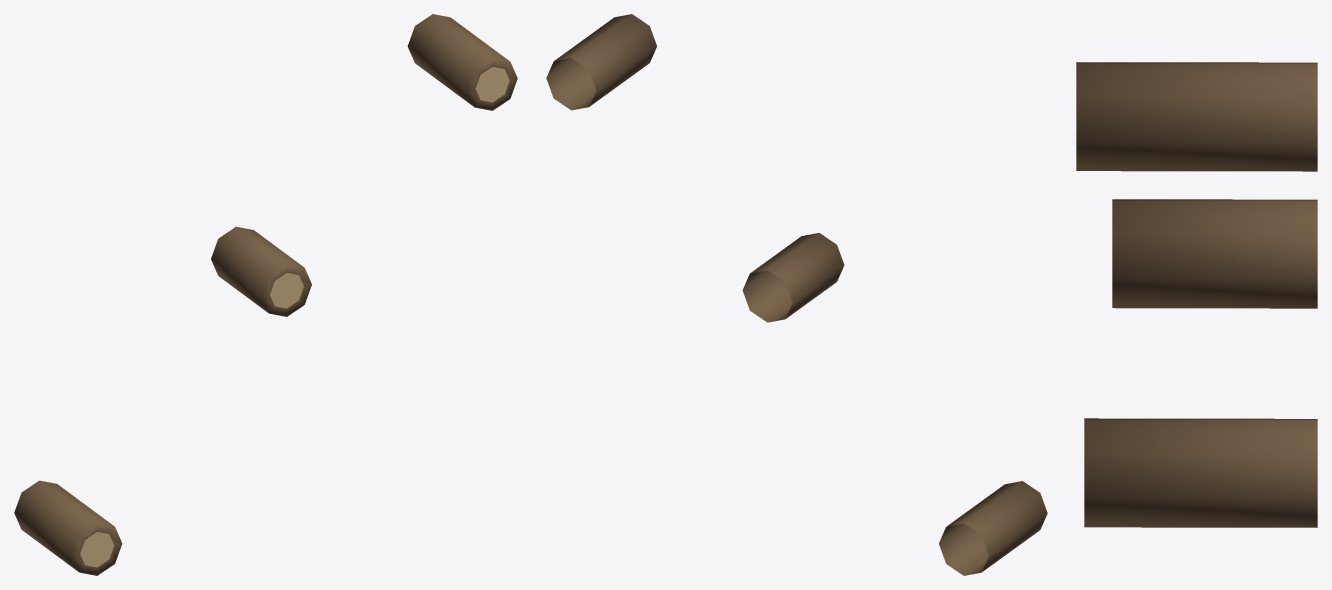
File: rpgpp_ag_roof_support_01_6x3x3_end_01_half_a.fbx
3 views of the same model, side by side, from view 1: azimuth 30°, elevation 25°; view 2: azimuth 150°, elevation 25°; view 3: azimuth 270°, elevation 25° (orthographic). The views are drawn at different scales.
Visible parts, largest first — view 1: rpgpp_ag_roof_support_01_6x3x3_end_01_half_a; view 2: rpgpp_ag_roof_support_01_6x3x3_end_01_half_a; view 3: rpgpp_ag_roof_support_01_6x3x3_end_01_half_a.
Part boxes in pixels (box(x1,y1,x2,y2)): rpgpp_ag_roof_support_01_6x3x3_end_01_half_a: box(14, 14, 517, 575); rpgpp_ag_roof_support_01_6x3x3_end_01_half_a: box(546, 14, 1047, 575); rpgpp_ag_roof_support_01_6x3x3_end_01_half_a: box(1076, 62, 1317, 527).
Bounding box in the file's own units: 2.26 × 2.06 × 0.5317.
